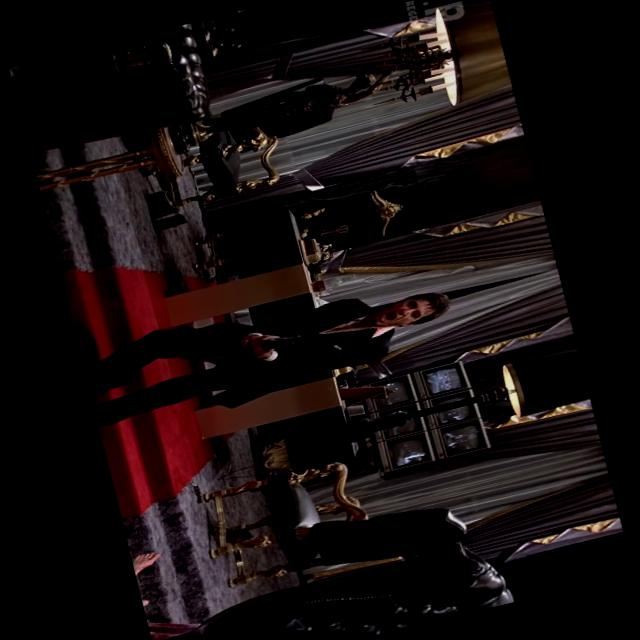long weapon: (212, 308, 326, 386)
